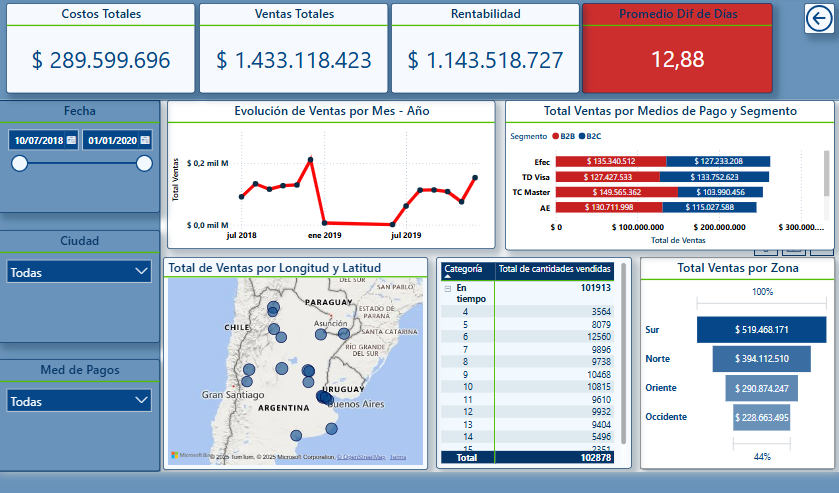

The page's visual inventory and layout, read from the dashboard file:
{"tool":"powerbi","page":{"name":"Detalle de Ventas","canvas":[1280,720],"ordinal":2},"visuals":[{"type":"shape","box":[0,157,246.2,563],"z":0},{"type":"shape","box":[0,0,1280.2,157],"z":1000},{"type":"card","title":"Promedio Dif de Días","fields":{"Values":["Medidas.Prom Dif Días"]},"box":[886.3,9.3,289.4,136.8],"z":1000,"group":"g1"},{"type":"card","title":"Costos Totales","fields":{"Values":["Medidas.Total de Costos $"]},"box":[12.4,9.3,287.3,137.3],"z":2000,"group":"g1"},{"type":"lineChart","title":"Evolución de Ventas por Mes - Año","fields":{"Category":["Tabla de Tiempo.Date.Variación.Jerarquía de fechas.Año","Tabla de Tiempo.Date.Variación.Jerarquía de fechas.Mes"],"Y":["Medidas.Total de Ventas $"]},"box":[256.3,157,498.2,226.1],"z":2000},{"type":"card","title":"Ventas Totales","fields":{"Values":["Medidas.Total de Ventas $"]},"box":[304.4,9.3,287.3,137.3],"z":3000,"group":"g1"},{"type":"group","id":"g1","title":"Grupo 1","box":[12.4,9.3,1163.5,138.3],"z":3000},{"type":"slicer","title":"Fecha","fields":{"Values":["Tabla de Tiempo.Date"]},"box":[0,157,246.2,171.4],"z":4000},{"type":"card","title":"Rentabilidad ","fields":{"Values":["Medidas.Total Rentabilidad $"]},"box":[596.4,9.3,285.7,137.3],"z":5000,"group":"g1"},{"type":"slicer","title":"Ciudad","fields":{"Values":["Territorio.Ciudad"]},"box":[0,352.8,246.2,171.4],"z":5000},{"type":"slicer","title":"Med de Pagos","fields":{"Values":["Medios de pago.Descripción Abrev"]},"box":[0,548.6,246.2,171.4],"z":6000},{"type":"funnel","title":"Total Ventas por Zona","fields":{"Category":["Vendedor.Zona"],"Y":["Medidas.Total de Ventas $"]},"box":[973.6,394.3,295.7,321.5],"z":7000},{"type":"barChart","title":"Total Ventas por Medios de Pago y Segmento","fields":{"Y":["Medidas.Total de Ventas $"],"Series":["Vendedor.Segmento"],"Category":["Medios de pago.Descripción Abrev"]},"box":[769,155.5,499.7,227.5],"z":8000},{"type":"pivotTable","fields":{"Values":["Medidas.Total de cantidades vendidas"],"Rows":["Ventas.Categoría","Ventas.Diferencia de fechas"]},"box":[663.8,394.6,296.6,321.1],"z":9000},{"type":"map","title":"Total de Ventas por Longitud y Latitud","fields":{"Y":["Territorio.Latitud"],"X":["Territorio.Longitud"],"Size":["Medidas.Total de Ventas $"]},"box":[250.2,394.3,401.9,323],"z":10000},{"type":"actionButton","box":[1222.5,9.3,46.6,46.6],"z":11000}]}

Visuals, with their boxes on the page's 1280x720 design canvas (x1, y1, x2, y2). These are canvas units, not pixel positions in the 839x493 screenshot, which may show the page scaled, cropped or inside an application window:
shape: select_region(0, 157, 246, 720)
shape: select_region(0, 0, 1280, 157)
"Promedio Dif de Días" card: select_region(886, 9, 1176, 146)
"Costos Totales" card: select_region(12, 9, 300, 147)
"Evolución de Ventas por Mes - Año" lineChart: select_region(256, 157, 754, 383)
"Ventas Totales" card: select_region(304, 9, 592, 147)
"Grupo 1" group: select_region(12, 9, 1176, 148)
"Fecha" slicer: select_region(0, 157, 246, 328)
"Rentabilidad " card: select_region(596, 9, 882, 147)
"Ciudad" slicer: select_region(0, 353, 246, 524)
"Med de Pagos" slicer: select_region(0, 549, 246, 720)
"Total Ventas por Zona" funnel: select_region(974, 394, 1269, 716)
"Total Ventas por Medios de Pago y Segmento" barChart: select_region(769, 156, 1269, 383)
pivotTable - Medidas.Total de cantidades vendidas x Ventas.Categoría: select_region(664, 395, 960, 716)
"Total de Ventas por Longitud y Latitud" map: select_region(250, 394, 652, 717)
actionButton: select_region(1222, 9, 1269, 56)
